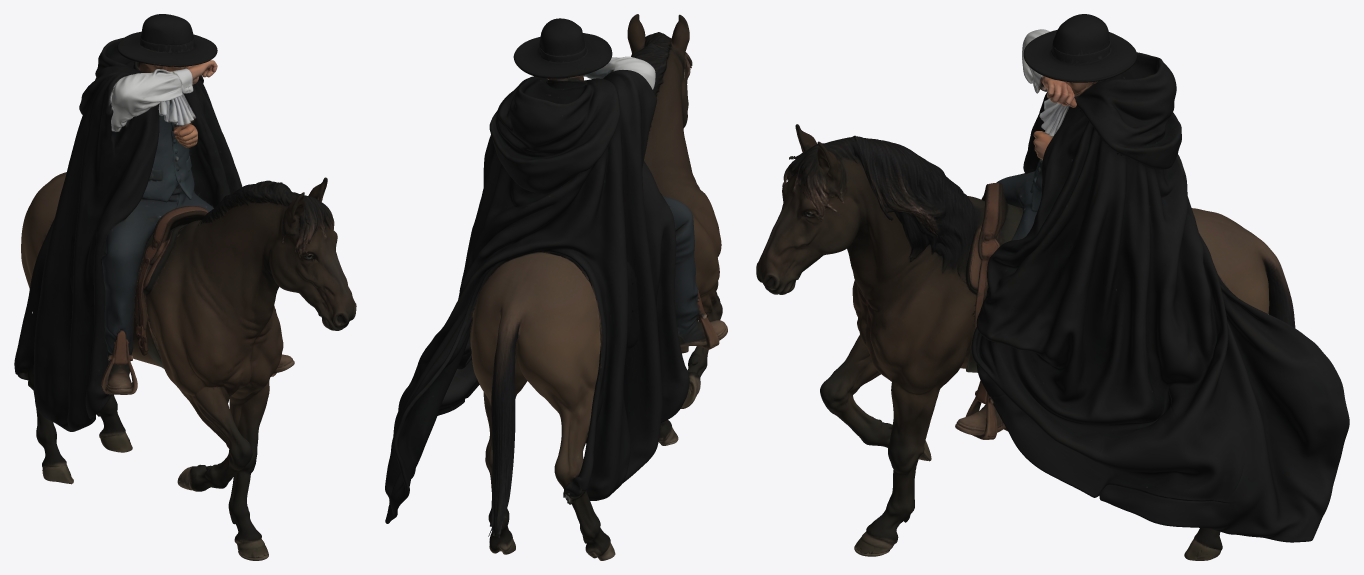
The model's file is don_anton_garcia.glb.
3 renders of one model, left to right at view 1: azimuth 30°, elevation 25°; view 2: azimuth 150°, elevation 25°; view 3: azimuth 270°, elevation 25°, orthographic. The views are drawn at different scales.
Visible parts, largest first — view 1: tripo_node_c60f8205-def9-4ae2-91f9-0f62ec6c784c; view 2: tripo_node_c60f8205-def9-4ae2-91f9-0f62ec6c784c; view 3: tripo_node_c60f8205-def9-4ae2-91f9-0f62ec6c784c.
Boxes of the visible parts, x1,y1,x2,y2 form: tripo_node_c60f8205-def9-4ae2-91f9-0f62ec6c784c: (14,14,356,560); tripo_node_c60f8205-def9-4ae2-91f9-0f62ec6c784c: (385,14,727,560); tripo_node_c60f8205-def9-4ae2-91f9-0f62ec6c784c: (756,14,1349,560).
Size of the model in its own units: 0.4659 by 0.9778 by 0.9804.
Materials: 1 (1 with a texture image).
